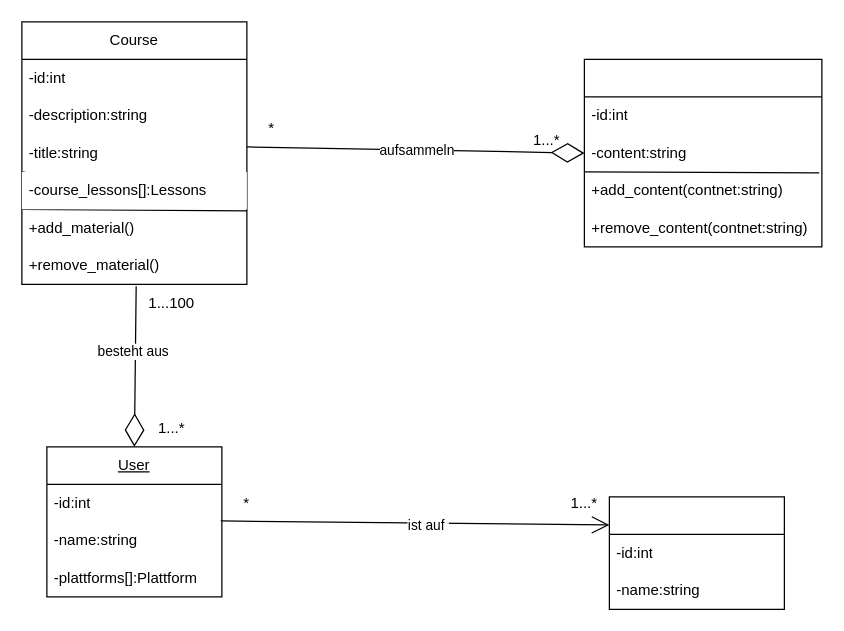
Image size: 844x631. Some labels were removed from this diagram. Each missing label, with the box of its shape:
Lessons: (583, 58, 822, 247)
Plattform: (608, 496, 784, 609)
